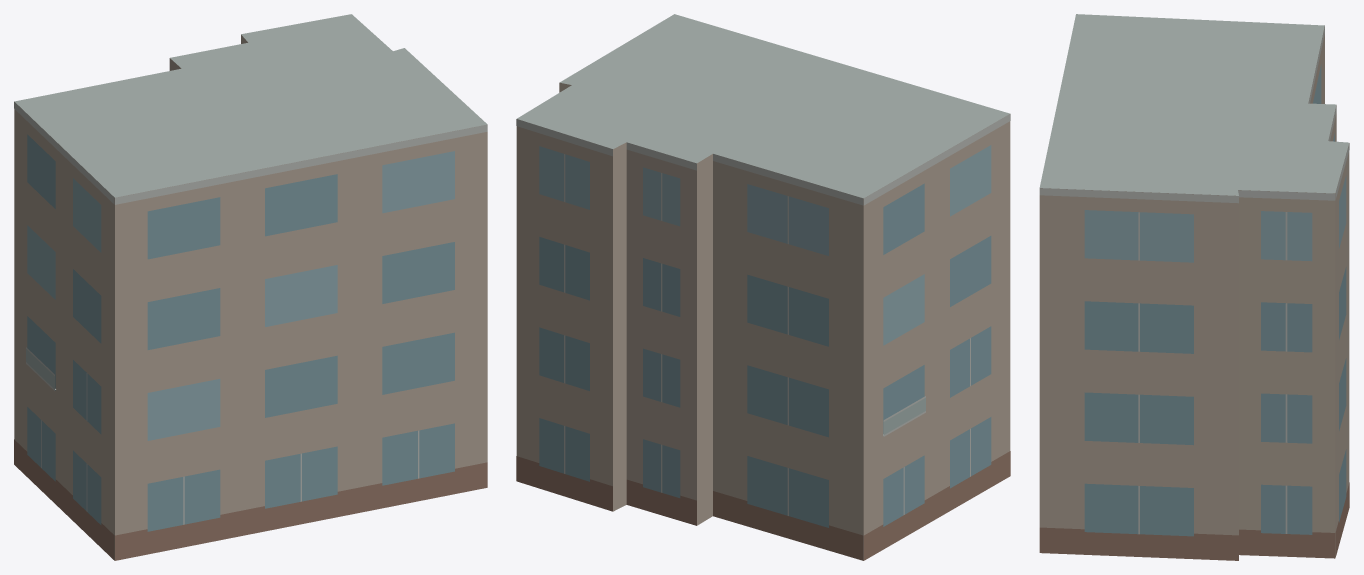
File: survey-upis-32458354.glb
3 renders of one model, left to right at view 1: azimuth 30°, elevation 25°; view 2: azimuth 150°, elevation 25°; view 3: azimuth 270°, elevation 25°, orthographic.
Parts seen in each view (by area): view 1: survey-upis-32458354.tmp; view 2: survey-upis-32458354.tmp; view 3: survey-upis-32458354.tmp.
Boxes of the visible parts, x1=… form: survey-upis-32458354.tmp: x1=14, y1=14, x2=487, y2=560; survey-upis-32458354.tmp: x1=516, y1=14, x2=1010, y2=560; survey-upis-32458354.tmp: x1=1039, y1=14, x2=1349, y2=560.
Size of the model in its own units: 13.05 by 12.2 by 9.4.
